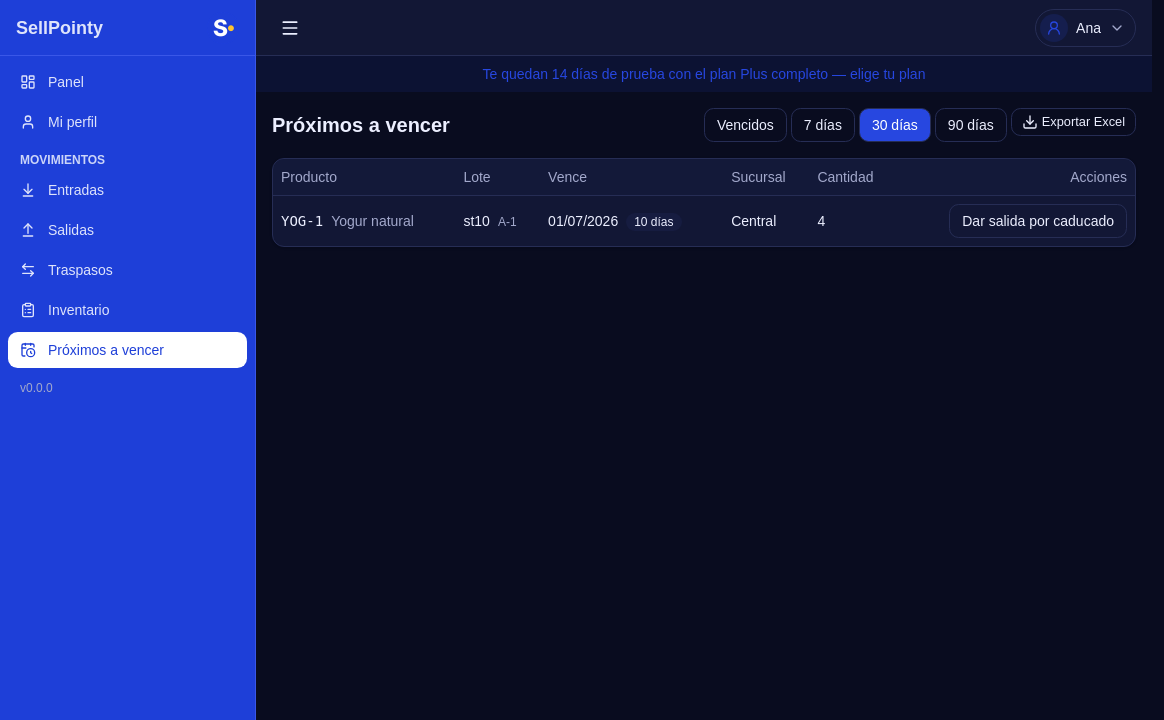
Próximos a vencer (F3-LOTS-03) › el export (F5-EXP-03) › si la descarga falla, lo dice en vez de quedarse callada
Check: the text "YOG-1" is shown, box [281,213,323,229]
Click the button "Exportar Excel" at (1073, 122), box [1011,108,1136,136]
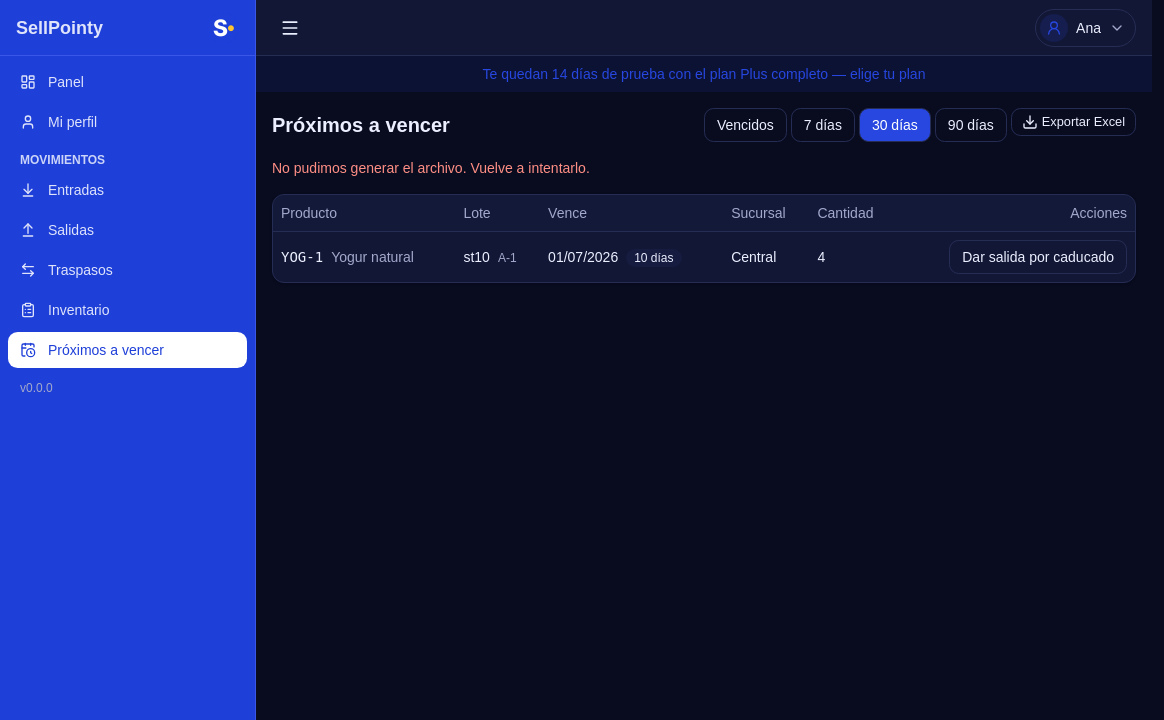
Check: the message "No pudimos generar el archivo. Vuelve a intentarlo." is shown, box [272,160,590,176]
